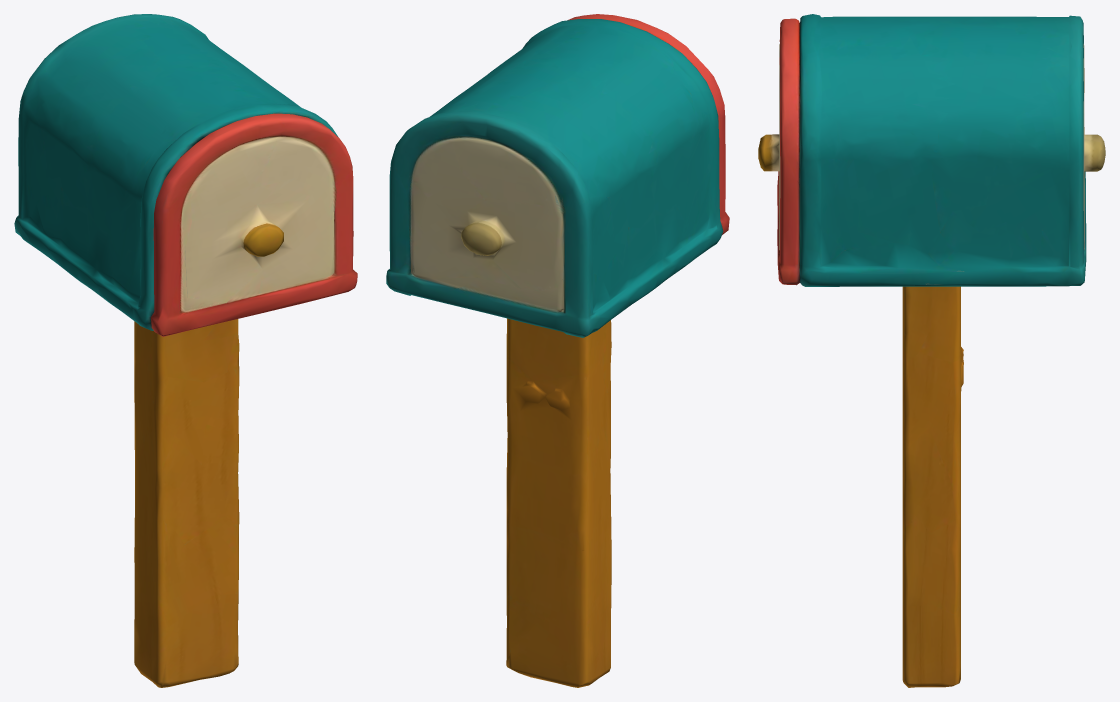
File: city-postbox.glb
3 renders of one model, left to right at view 1: azimuth 30°, elevation 25°; view 2: azimuth 150°, elevation 25°; view 3: azimuth 270°, elevation 25°, orthographic. The views are drawn at different scales.
Parts seen in each view (by area): view 1: city-postbox; view 2: city-postbox; view 3: city-postbox.
Boxes of the visible parts, <box> form: city-postbox: <box>14,14,357,687</box>; city-postbox: <box>386,14,729,687</box>; city-postbox: <box>758,14,1105,687</box>.
Size of the model in its own units: 0.44 by 1.22 by 0.6.
Materials: 1 (1 with a texture image).
